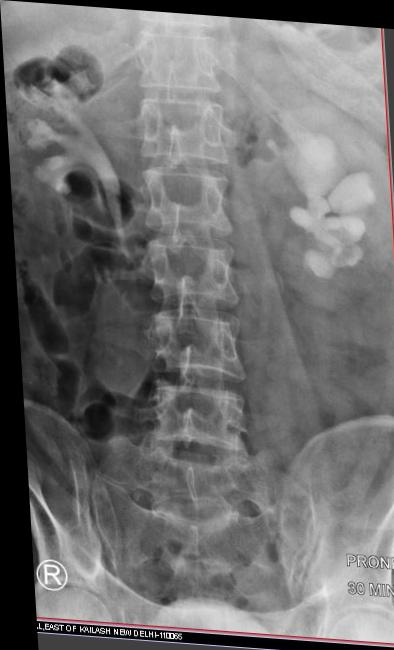vertebrae: (133, 91, 229, 165)
